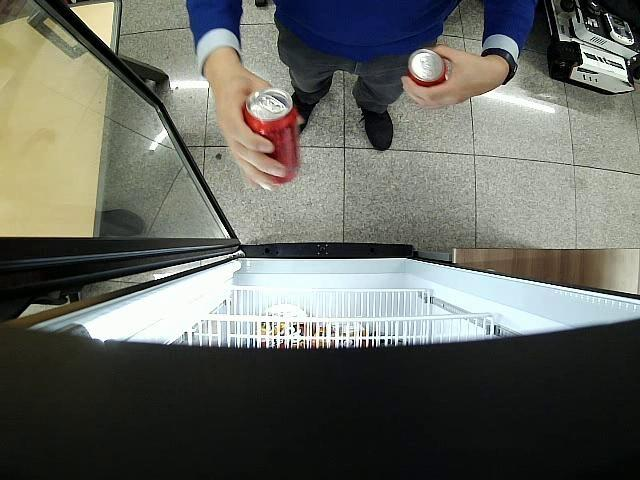11_cocaColaZero: (242, 87, 299, 185), (408, 50, 448, 86)
